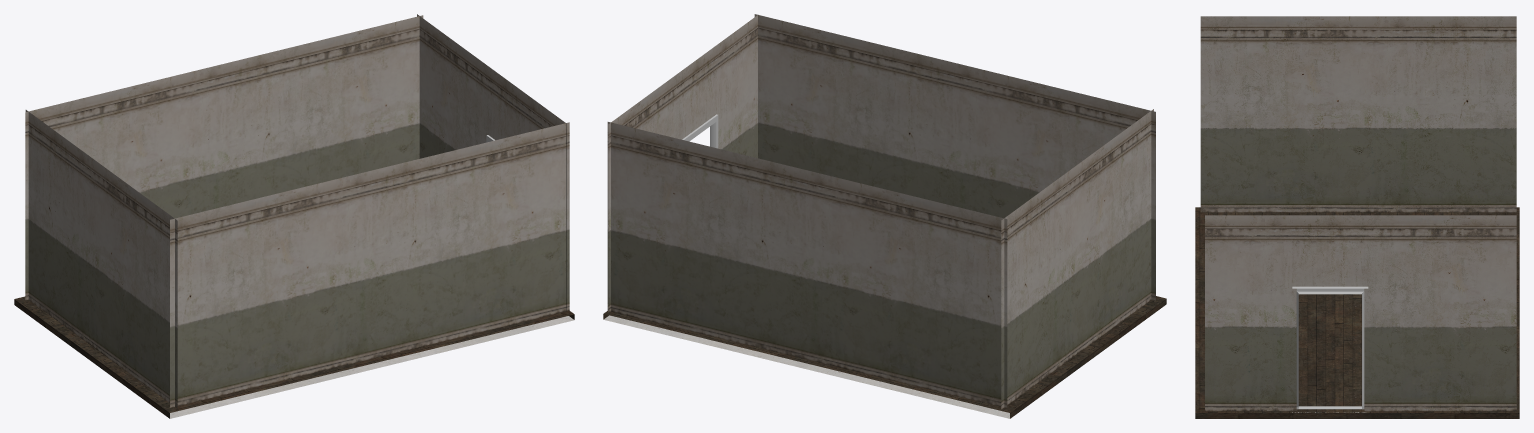
Rendered from room_6m_x_9m_sideroom_door_back.fbx.
The picture shows the model from 3 angles, left to right: view 1: azimuth 30°, elevation 25°; view 2: azimuth 150°, elevation 25°; view 3: azimuth 270°, elevation 25°; orthographic projection. The views are drawn at different scales.
Parts seen in each view (by area): view 1: room_6m_x_9m_sideroom_door_back; view 2: room_6m_x_9m_sideroom_door_back; view 3: room_6m_x_9m_sideroom_door_back.
Boxes of the visible parts, box(x1,y1,x2,y2) form: room_6m_x_9m_sideroom_door_back: box(14, 14, 574, 418); room_6m_x_9m_sideroom_door_back: box(603, 14, 1166, 418); room_6m_x_9m_sideroom_door_back: box(1195, 16, 1519, 418).
Size of the model in its own units: 900 by 412 by 600.
